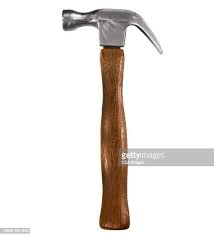hammer: (61, 7, 164, 231)
